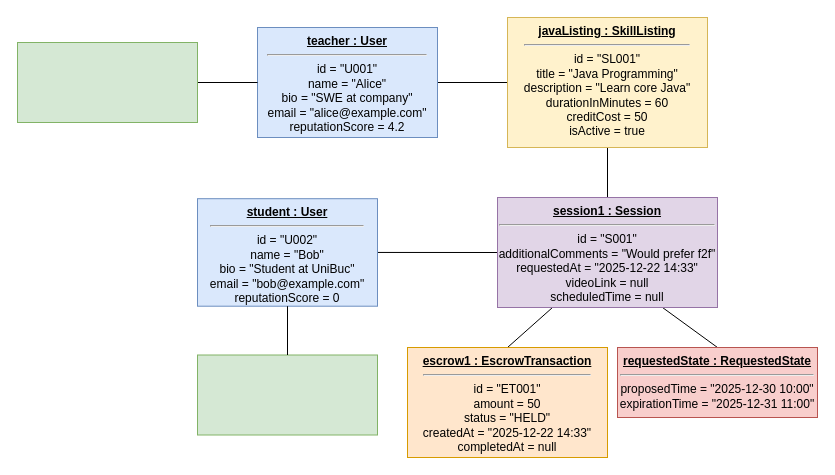
The diagram is 835 pixels wide and 475 high, and some of its shapes have lost their labels. Here are the shapes that lost their labels. From the top down, the centre of each, then its label:
pixel 107 82: aliceWallet : Wallet walletId = "W001" availableCredits = 0 lockedCredits = 0
pixel 287 394: bobWallet : Wallet walletId = "W002" availableCredits = 50 lockedCredits = 50
